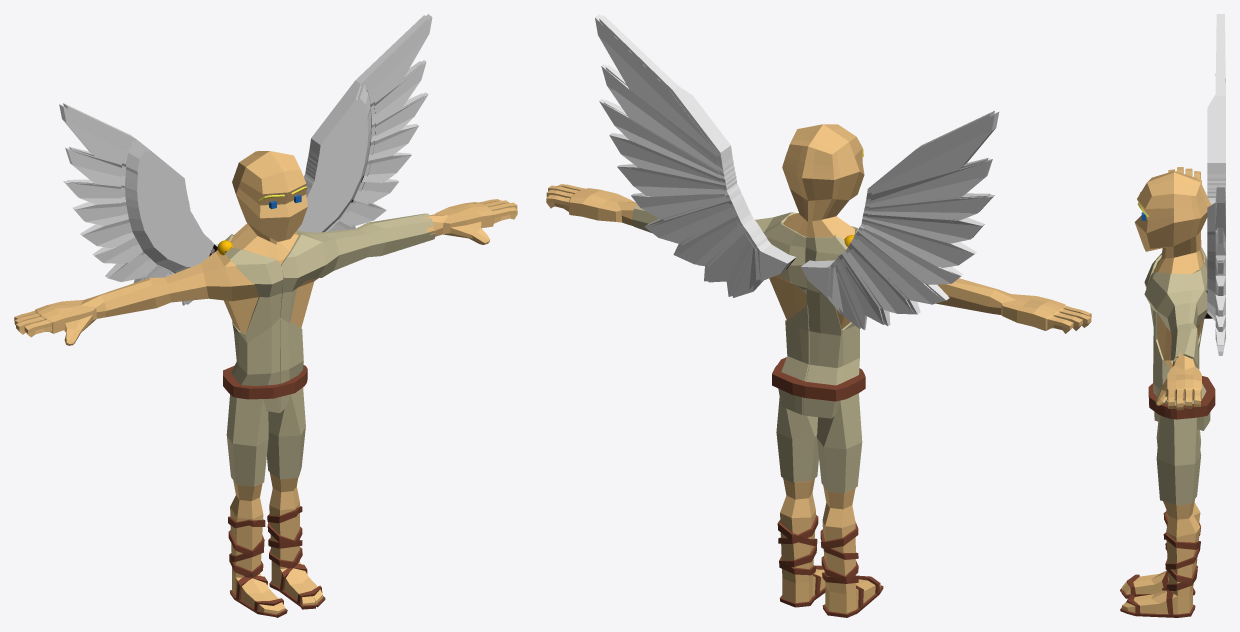
Rendered from hypnos.fbx.
The picture shows the model from 3 angles, left to right: view 1: azimuth 30°, elevation 25°; view 2: azimuth 150°, elevation 25°; view 3: azimuth 270°, elevation 25°; orthographic projection. The views are drawn at different scales.
Parts seen in each view (by area): view 1: Cube.001, Cube.007, Cube.004; view 2: Cube.001, Cube.007, Cube.004; view 3: Cube.001, Cube.007, Cube.004.
Boxes of the visible parts, x1,y1,x2,y2 form: Cube.001: (14,14,517,614); Cube.007: (217,213,435,486); Cube.004: (228,506,325,617); Cube.001: (546,14,1091,613); Cube.007: (632,204,865,493); Cube.004: (777,515,883,617); Cube.001: (1122,14,1225,614); Cube.007: (1144,247,1215,505); Cube.004: (1120,511,1200,617).
Bounding box in the file's own units: 25.42 × 25.14 × 4.82.
